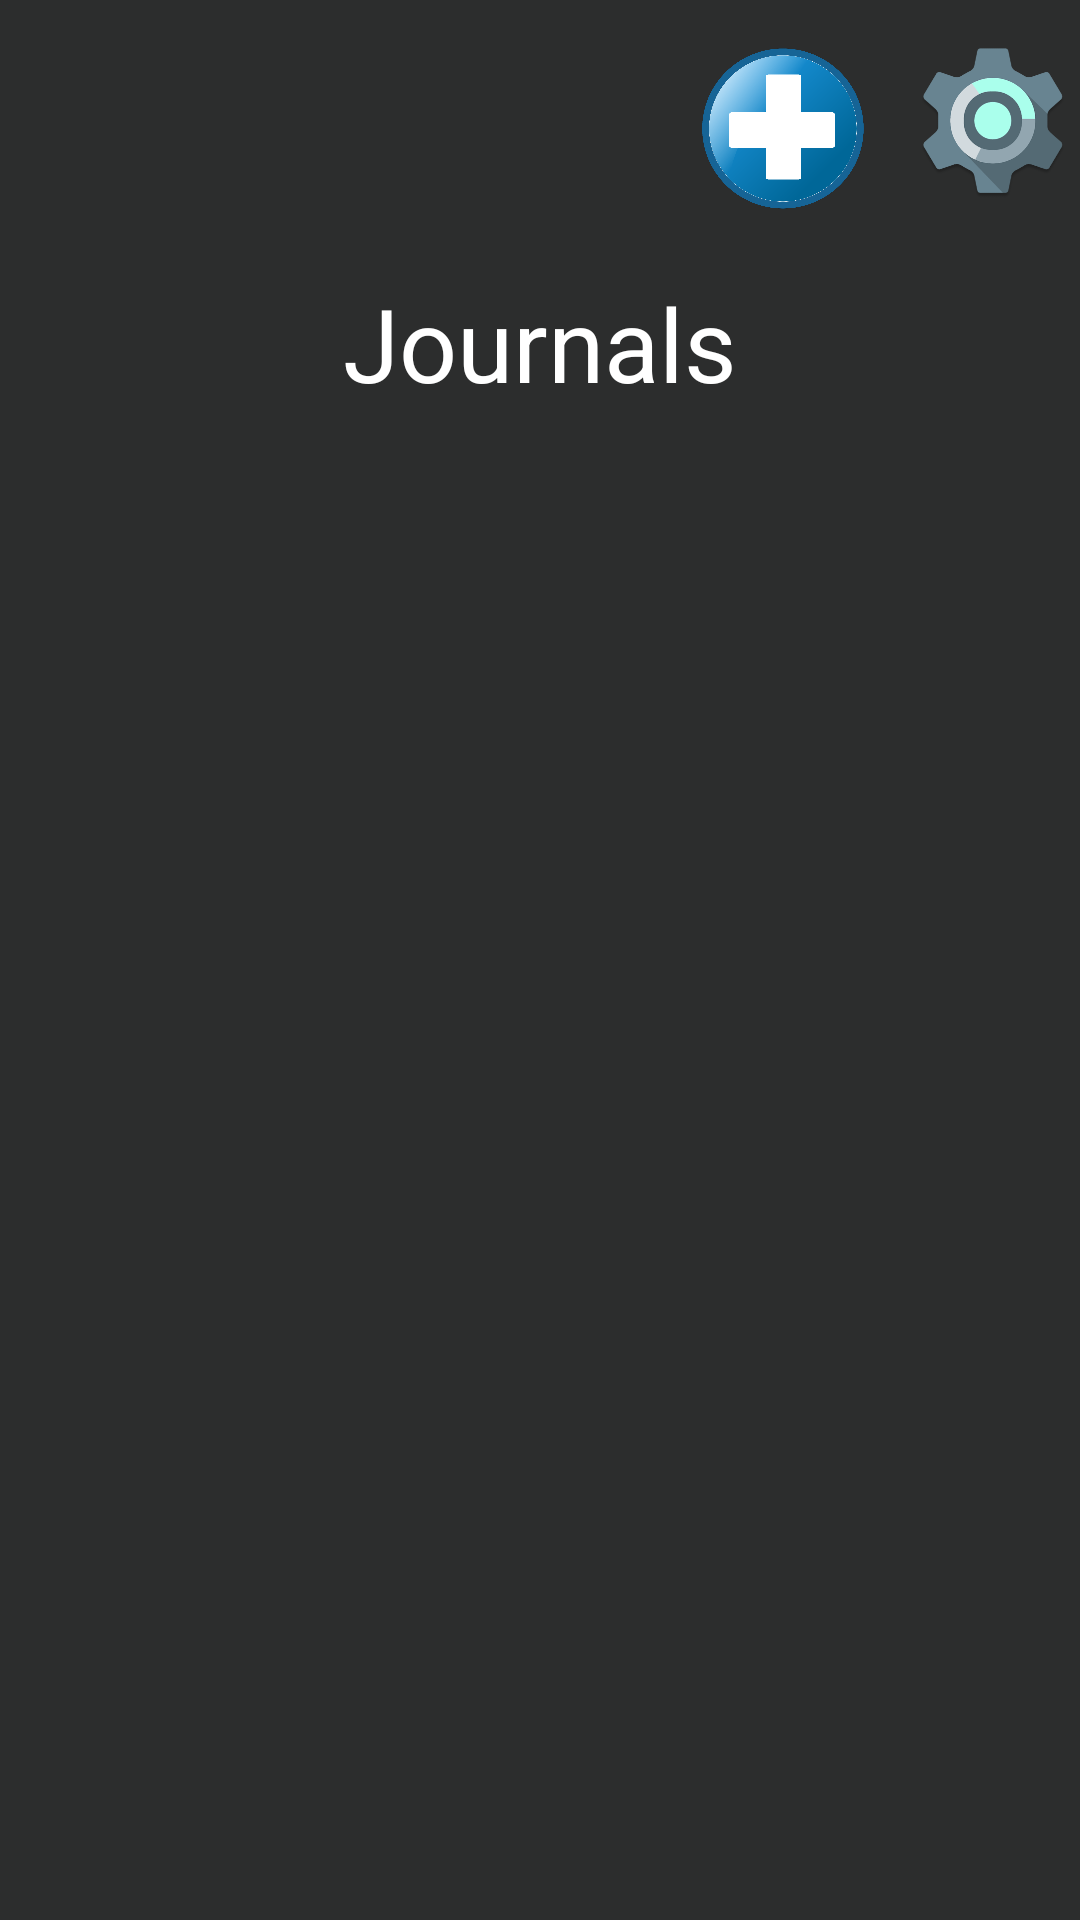

Point at icon controls on the screen. Image size 1080x1920, points as point (x, y).
add: point (783, 128)
settings: point (992, 120)
